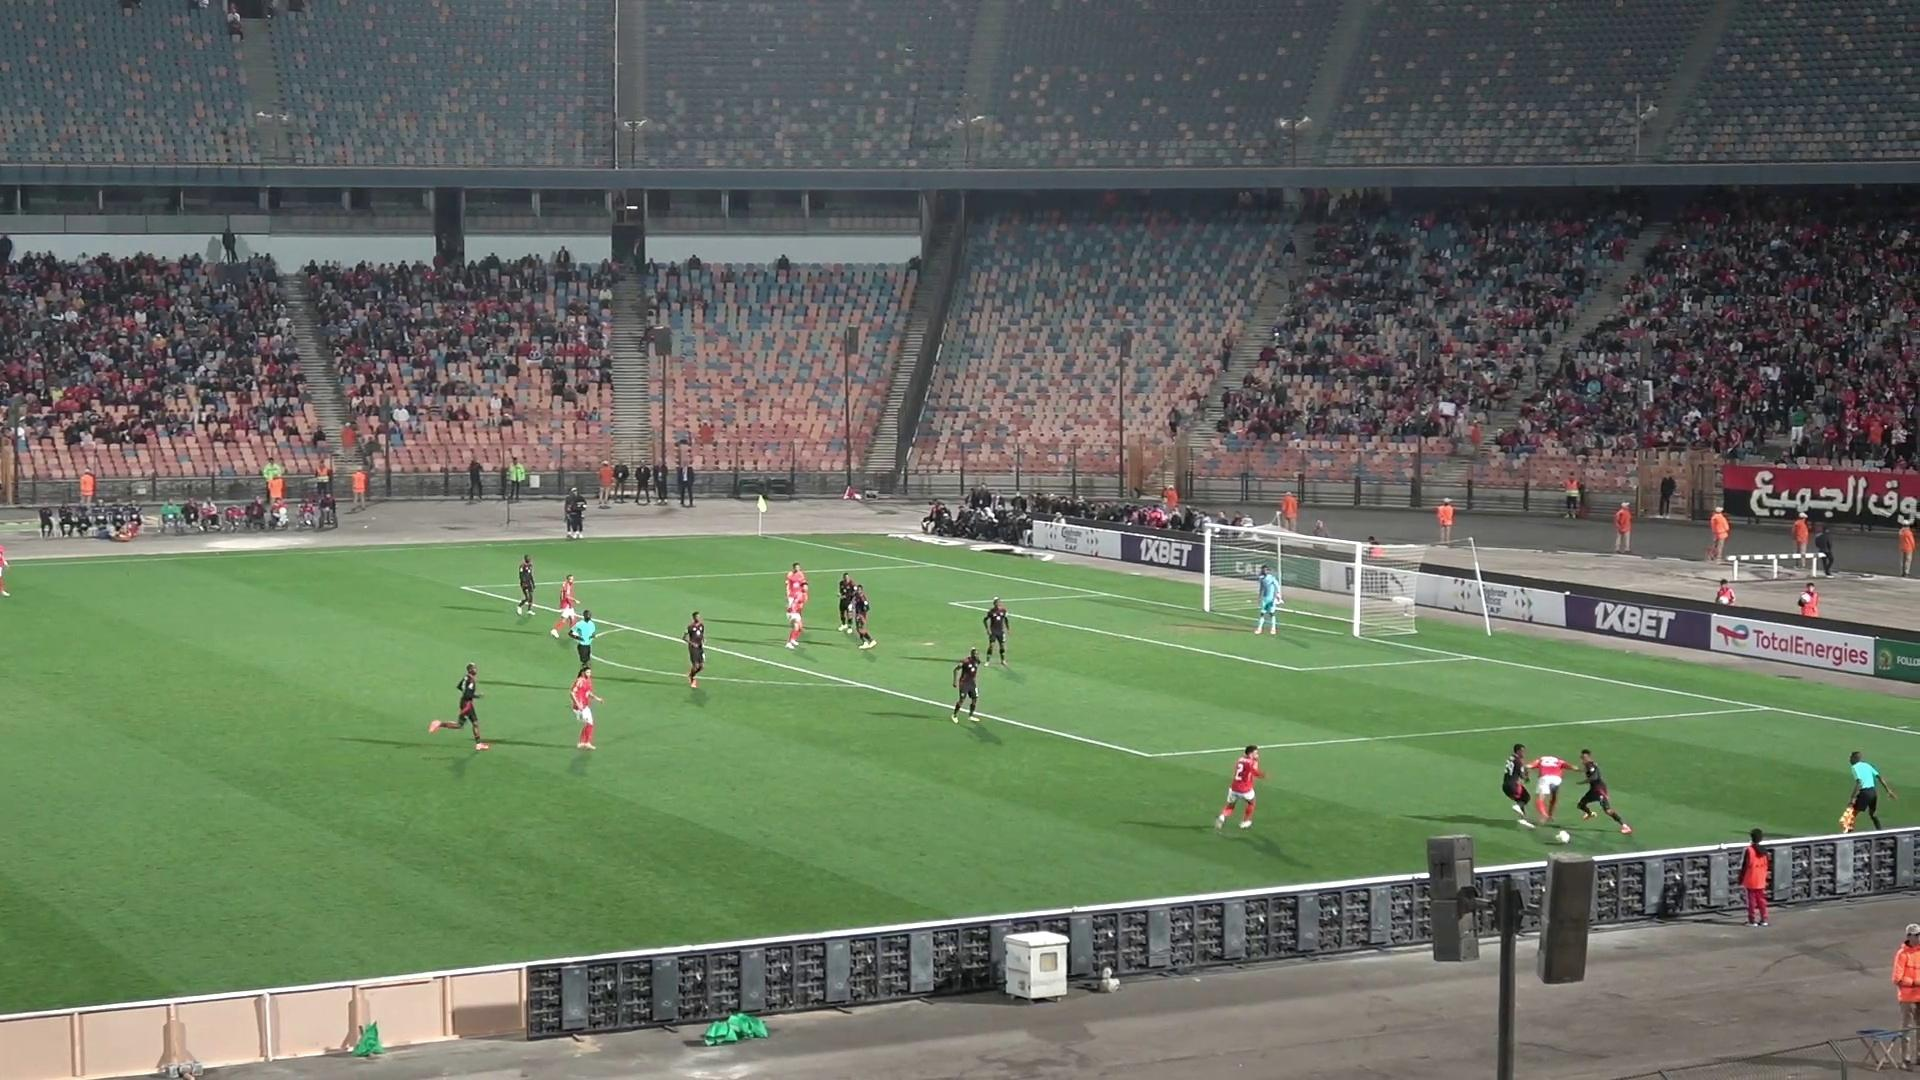Ball: (1553, 828, 1571, 844)
GK2: (1254, 564, 1284, 634)
Refree: (1840, 750, 1898, 831), (558, 611, 600, 673)
Team1: (1215, 745, 1265, 829), (1528, 754, 1571, 824), (570, 666, 601, 749), (785, 563, 810, 649), (550, 575, 580, 637)
Team2: (429, 665, 491, 750), (1576, 748, 1631, 833), (837, 576, 877, 647), (1501, 744, 1534, 825), (949, 647, 984, 723), (680, 612, 707, 688), (982, 597, 1009, 663), (837, 574, 860, 633), (516, 554, 537, 615)
